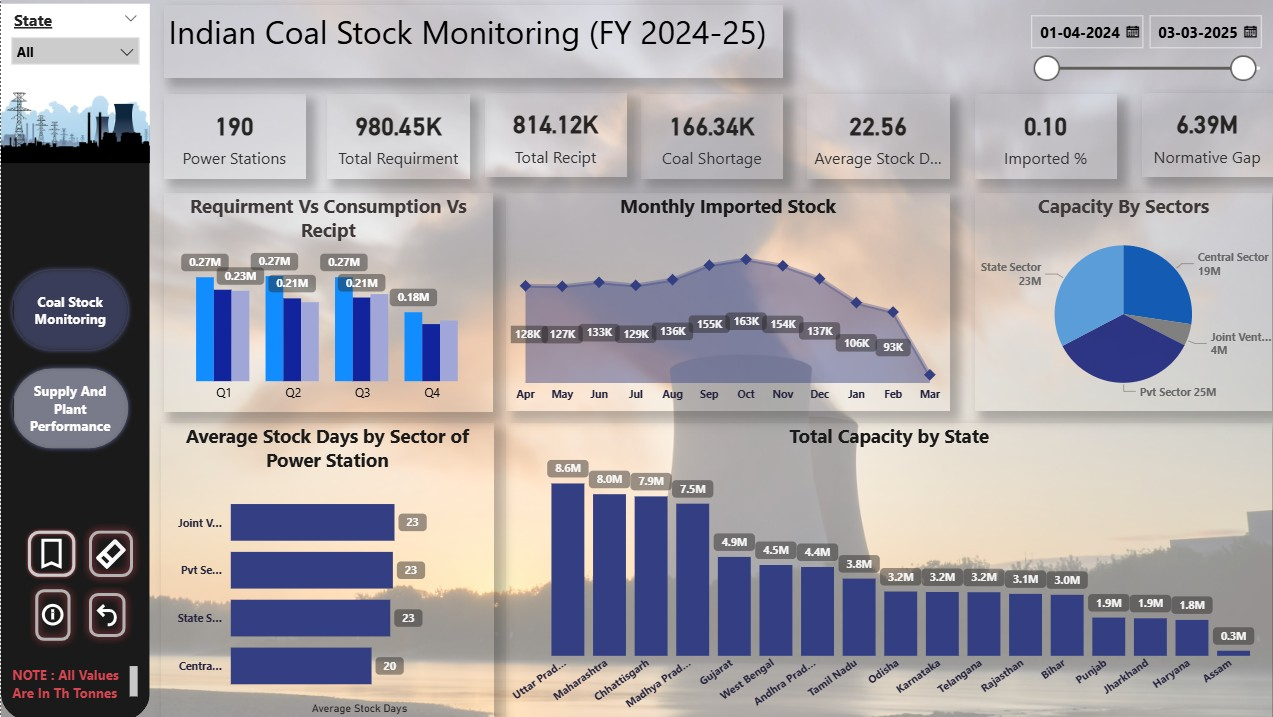

Layout of this report page (visuals, bound fields, positions):
{"tool":"powerbi","page":{"name":"Coal Stock Monitoring","canvas":[1280,720],"ordinal":1},"visuals":[{"type":"slicer","fields":{"Values":["Calender.Date"]},"box":[1017.8,5.6,262.4,83.3],"z":0},{"type":"card","fields":{"Values":["Coal Measures.Total Requirment"]},"box":[326.2,93.8,142.5,85],"z":1000},{"type":"card","fields":{"Values":["Coal Measures.Total Recipt"]},"box":[483.8,92.5,142,85],"z":2000},{"type":"textbox","box":[162.5,5,620,72.5],"z":3000},{"type":"card","fields":{"Values":["Coal Measures.Power Stations"]},"box":[162.5,93.8,142,85],"z":4000},{"type":"card","fields":{"Values":["Coal Measures.Coal Shortage"]},"box":[640,93.8,142,85],"z":5000},{"type":"card","fields":{"Values":["Coal Measures.Average Stock Days"]},"box":[806.2,93.8,142,85],"z":6000},{"type":"card","fields":{"Values":["Coal Measures.Imported %"]},"box":[973.8,93.8,142,85],"z":7000},{"type":"clusteredBarChart","fields":{"Category":["Coal.Sector of Power Station"],"Y":["Coal Measures.Average Stock Days"]},"box":[160,422.5,332.5,297.5],"z":8000},{"type":"stackedAreaChart","title":"Monthly Imported Stock","fields":{"Category":["Calender.Month"],"Y":["Coal Measures.Total Imported"]},"box":[505,192.5,443.8,218.8],"z":9000},{"type":"clusteredColumnChart","title":"Total Capacity by State","fields":{"Category":["Coal.State Name"],"Y":["Sum(Coal.Capacity of Power Station In Th Tonnes)"]},"box":[505,422.5,766.2,297.5],"z":10000},{"type":"slicer","fields":{"Values":["Coal.State Name"]},"box":[0,3.8,148.8,85],"z":11000},{"type":"clusteredColumnChart","title":"Requirment Vs Consumption Vs Recipt","fields":{"Category":["Calender.Qtr"],"Y":["Coal Measures.Total Requirment","Sum(Coal.Daily Consumption In Th Tonnes)","Coal Measures.Total Recipt"]},"box":[162.3,192.5,329.6,218.9],"z":13000},{"type":"shape","box":[0,102.5,148.8,617.5],"z":14000},{"type":"pageNavigator","box":[6.2,265,126.2,188.8],"z":15000},{"type":"image","box":[0,77.5,148.8,93.8],"z":16000},{"type":"card","fields":{"Values":["Coal Measures.Normative Gap"]},"box":[1141.2,92.5,130,85],"z":17000},{"type":"actionButton","box":[23.8,527.5,53.8,52.5],"z":18000},{"type":"actionButton","box":[26.2,581.2,51.2,67.5],"z":19000},{"type":"actionButton","box":[80,522.5,60,62.5],"z":20000},{"type":"actionButton","box":[80,585,52.5,60],"z":21000},{"type":"textbox","box":[6.2,661.2,135,42.5],"z":22000},{"type":"pieChart","title":"Capacity By Sectors","fields":{"Category":["Sectors.Sector of Power Station"],"Y":["Sum(Coal.Capacity of Power Station In Th Tonnes)"]},"box":[973.8,192.5,297.5,218.8],"z":24000}]}

Visuals, with their boxes in screenshot pixels (x1, y1, x2, y2), scaled from the page's 1280x720 canvas onto the 1273x717 screenshot:
slicer - Calender.Date: 1012, 6, 1272, 89
card - Coal Measures.Total Requirment: 324, 93, 466, 178
card - Coal Measures.Total Recipt: 481, 92, 622, 177
textbox: 162, 5, 778, 77
card - Coal Measures.Power Stations: 162, 93, 303, 178
card - Coal Measures.Coal Shortage: 636, 93, 778, 178
card - Coal Measures.Average Stock Days: 802, 93, 943, 178
card - Coal Measures.Imported %: 968, 93, 1110, 178
clusteredBarChart - Coal.Sector of Power Station x Coal Measures.Average Stock Days: 159, 421, 490, 716
"Monthly Imported Stock" stackedAreaChart: 502, 192, 944, 410
"Total Capacity by State" clusteredColumnChart: 502, 421, 1264, 716
slicer - Coal.State Name: 0, 4, 148, 88
"Requirment Vs Consumption Vs Recipt" clusteredColumnChart: 161, 192, 489, 410
shape: 0, 102, 148, 716
pageNavigator: 6, 264, 132, 452
image: 0, 77, 148, 171
card - Coal Measures.Normative Gap: 1135, 92, 1264, 177
actionButton: 24, 525, 77, 578
actionButton: 26, 579, 77, 646
actionButton: 80, 520, 139, 583
actionButton: 80, 583, 132, 642
textbox: 6, 658, 140, 701
"Capacity By Sectors" pieChart: 968, 192, 1264, 410
